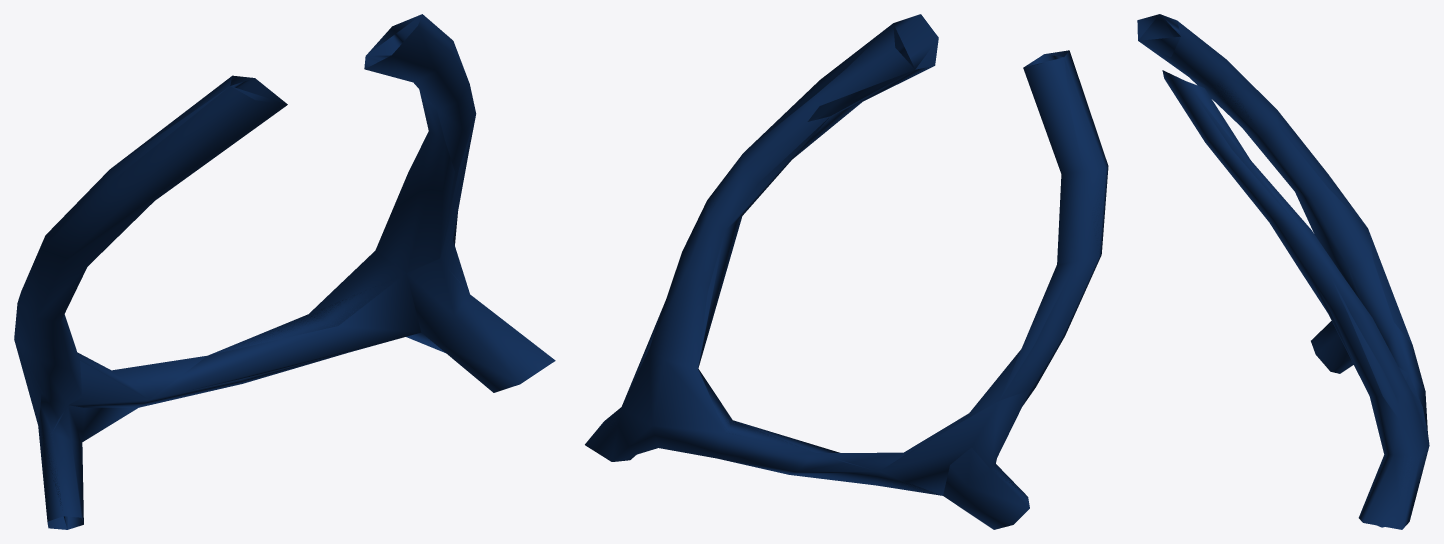
The model's file is R vena arcus plantaris profundus.fbx.
3 renders of one model, left to right at view 1: azimuth 30°, elevation 25°; view 2: azimuth 150°, elevation 25°; view 3: azimuth 270°, elevation 25°, orthographic. The views are drawn at different scales.
Parts seen in each view (by area): view 1: R vena arcus plantaris profundus, R vena arcus plantaris profundus low; view 2: R vena arcus plantaris profundus, R vena arcus plantaris profundus low; view 3: R vena arcus plantaris profundus, R vena arcus plantaris profundus low.
Part boxes in pixels (x1,y1,x2,y2): R vena arcus plantaris profundus: (14, 14, 555, 529); R vena arcus plantaris profundus low: (14, 14, 475, 529); R vena arcus plantaris profundus: (585, 23, 1108, 529); R vena arcus plantaris profundus low: (586, 14, 1105, 495); R vena arcus plantaris profundus: (1137, 14, 1429, 529); R vena arcus plantaris profundus low: (1138, 14, 1421, 525).
Size of the model in its own units: 3.15 by 2.78 by 1.93.
